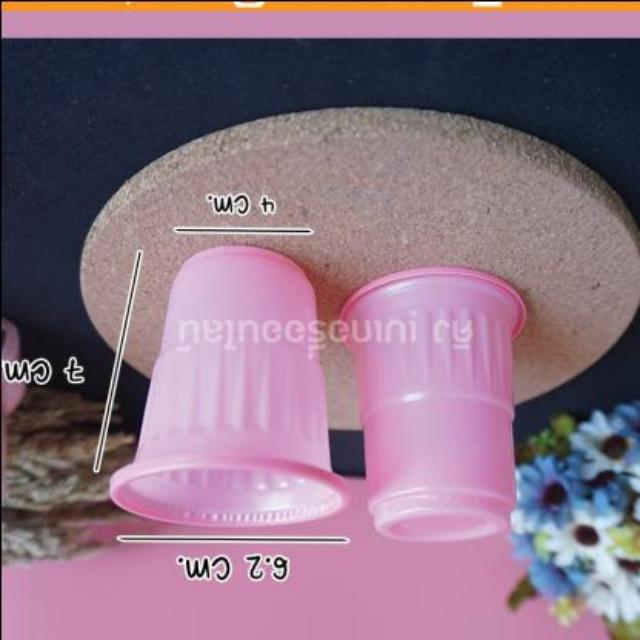plastic_box: (108, 236, 348, 524), (338, 266, 526, 538)
